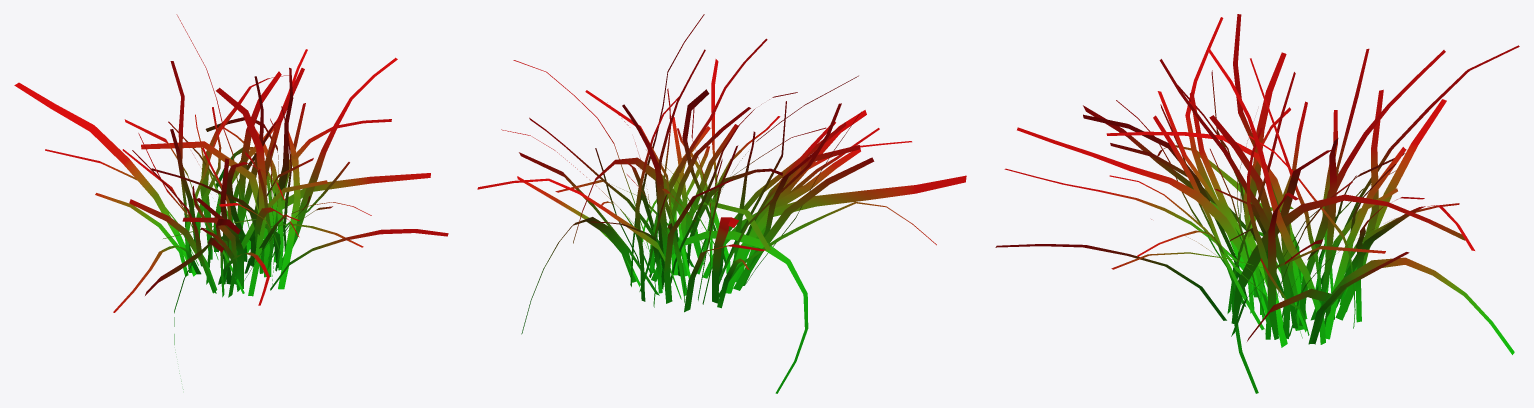
Rendered from Wheat_LOD1_Var6_smdoejyr.fbx.
3 views of the same model, side by side, from view 1: azimuth 30°, elevation 25°; view 2: azimuth 150°, elevation 25°; view 3: azimuth 270°, elevation 25° (orthographic). The views are drawn at different scales.
Visible parts, largest first — view 1: _7f18_Var6_LOD1; view 2: _7f18_Var6_LOD1; view 3: _7f18_Var6_LOD1.
Part boxes in pixels (left/top/right/bottom): _7f18_Var6_LOD1: left=14, top=14, right=448, bottom=389; _7f18_Var6_LOD1: left=477, top=14, right=966, bottom=393; _7f18_Var6_LOD1: left=995, top=14, right=1519, bottom=393.
Bounding box in the file's own units: 34.59 × 29.78 × 35.52.
